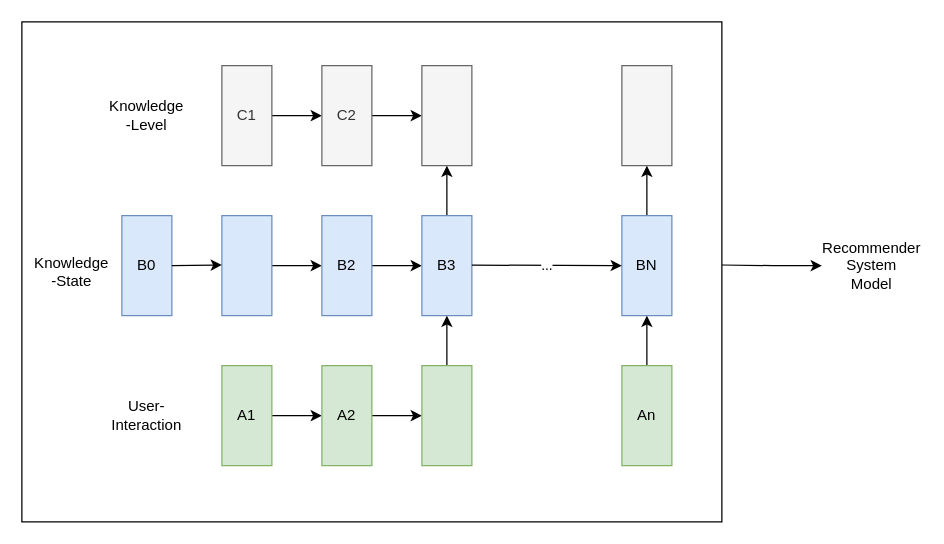
Image size: 944x544. Some labels were removed from this diagram. The shapes that lost their labels are listed below. From the top down, each one's box as (x1, y1, x2, y2) in pixels, then its label:
(421, 64, 472, 166): C3
(621, 64, 672, 166): Cn
(221, 214, 272, 316): B1
(421, 364, 472, 466): A3
